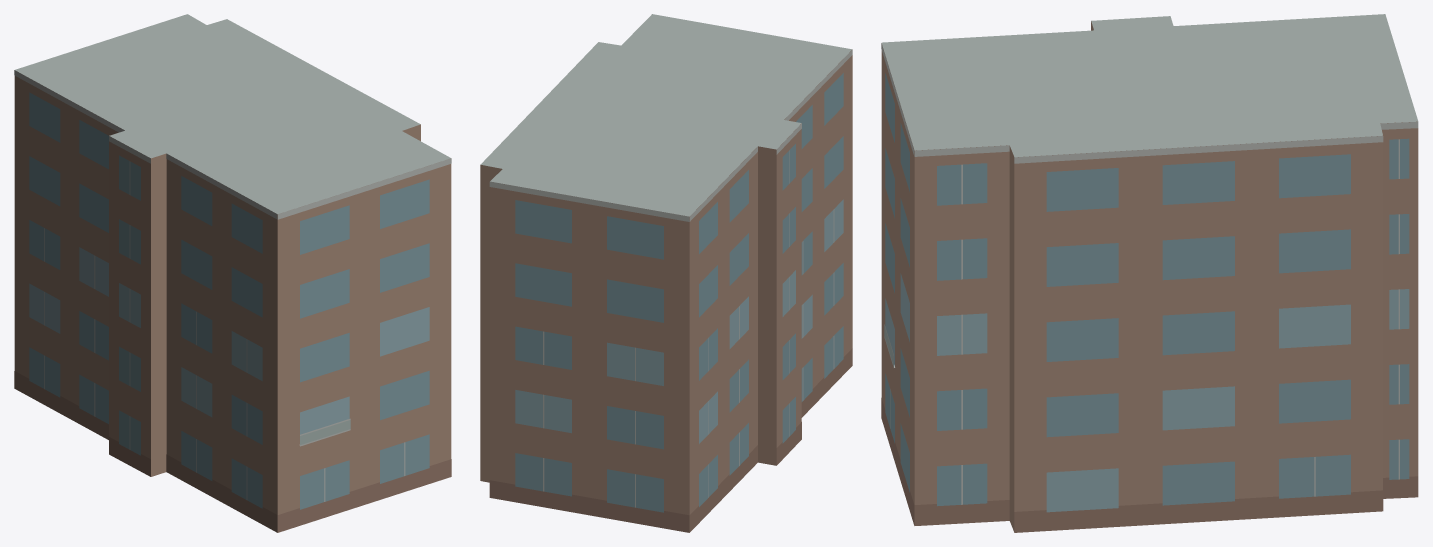
The model's file is survey-upis-32523917.glb.
The picture shows the model from 3 angles, left to right: view 1: azimuth 30°, elevation 25°; view 2: azimuth 150°, elevation 25°; view 3: azimuth 270°, elevation 25°; orthographic projection. The views are drawn at different scales.
Parts seen in each view (by area): view 1: survey-upis-32523917.tmp; view 2: survey-upis-32523917.tmp; view 3: survey-upis-32523917.tmp.
Part boxes in pixels (x1,y1,x2,y2): survey-upis-32523917.tmp: [14, 14, 451, 532]; survey-upis-32523917.tmp: [480, 14, 852, 532]; survey-upis-32523917.tmp: [881, 14, 1418, 532].
Size of the model in its own units: 11.63 by 14.2 by 18.41.
